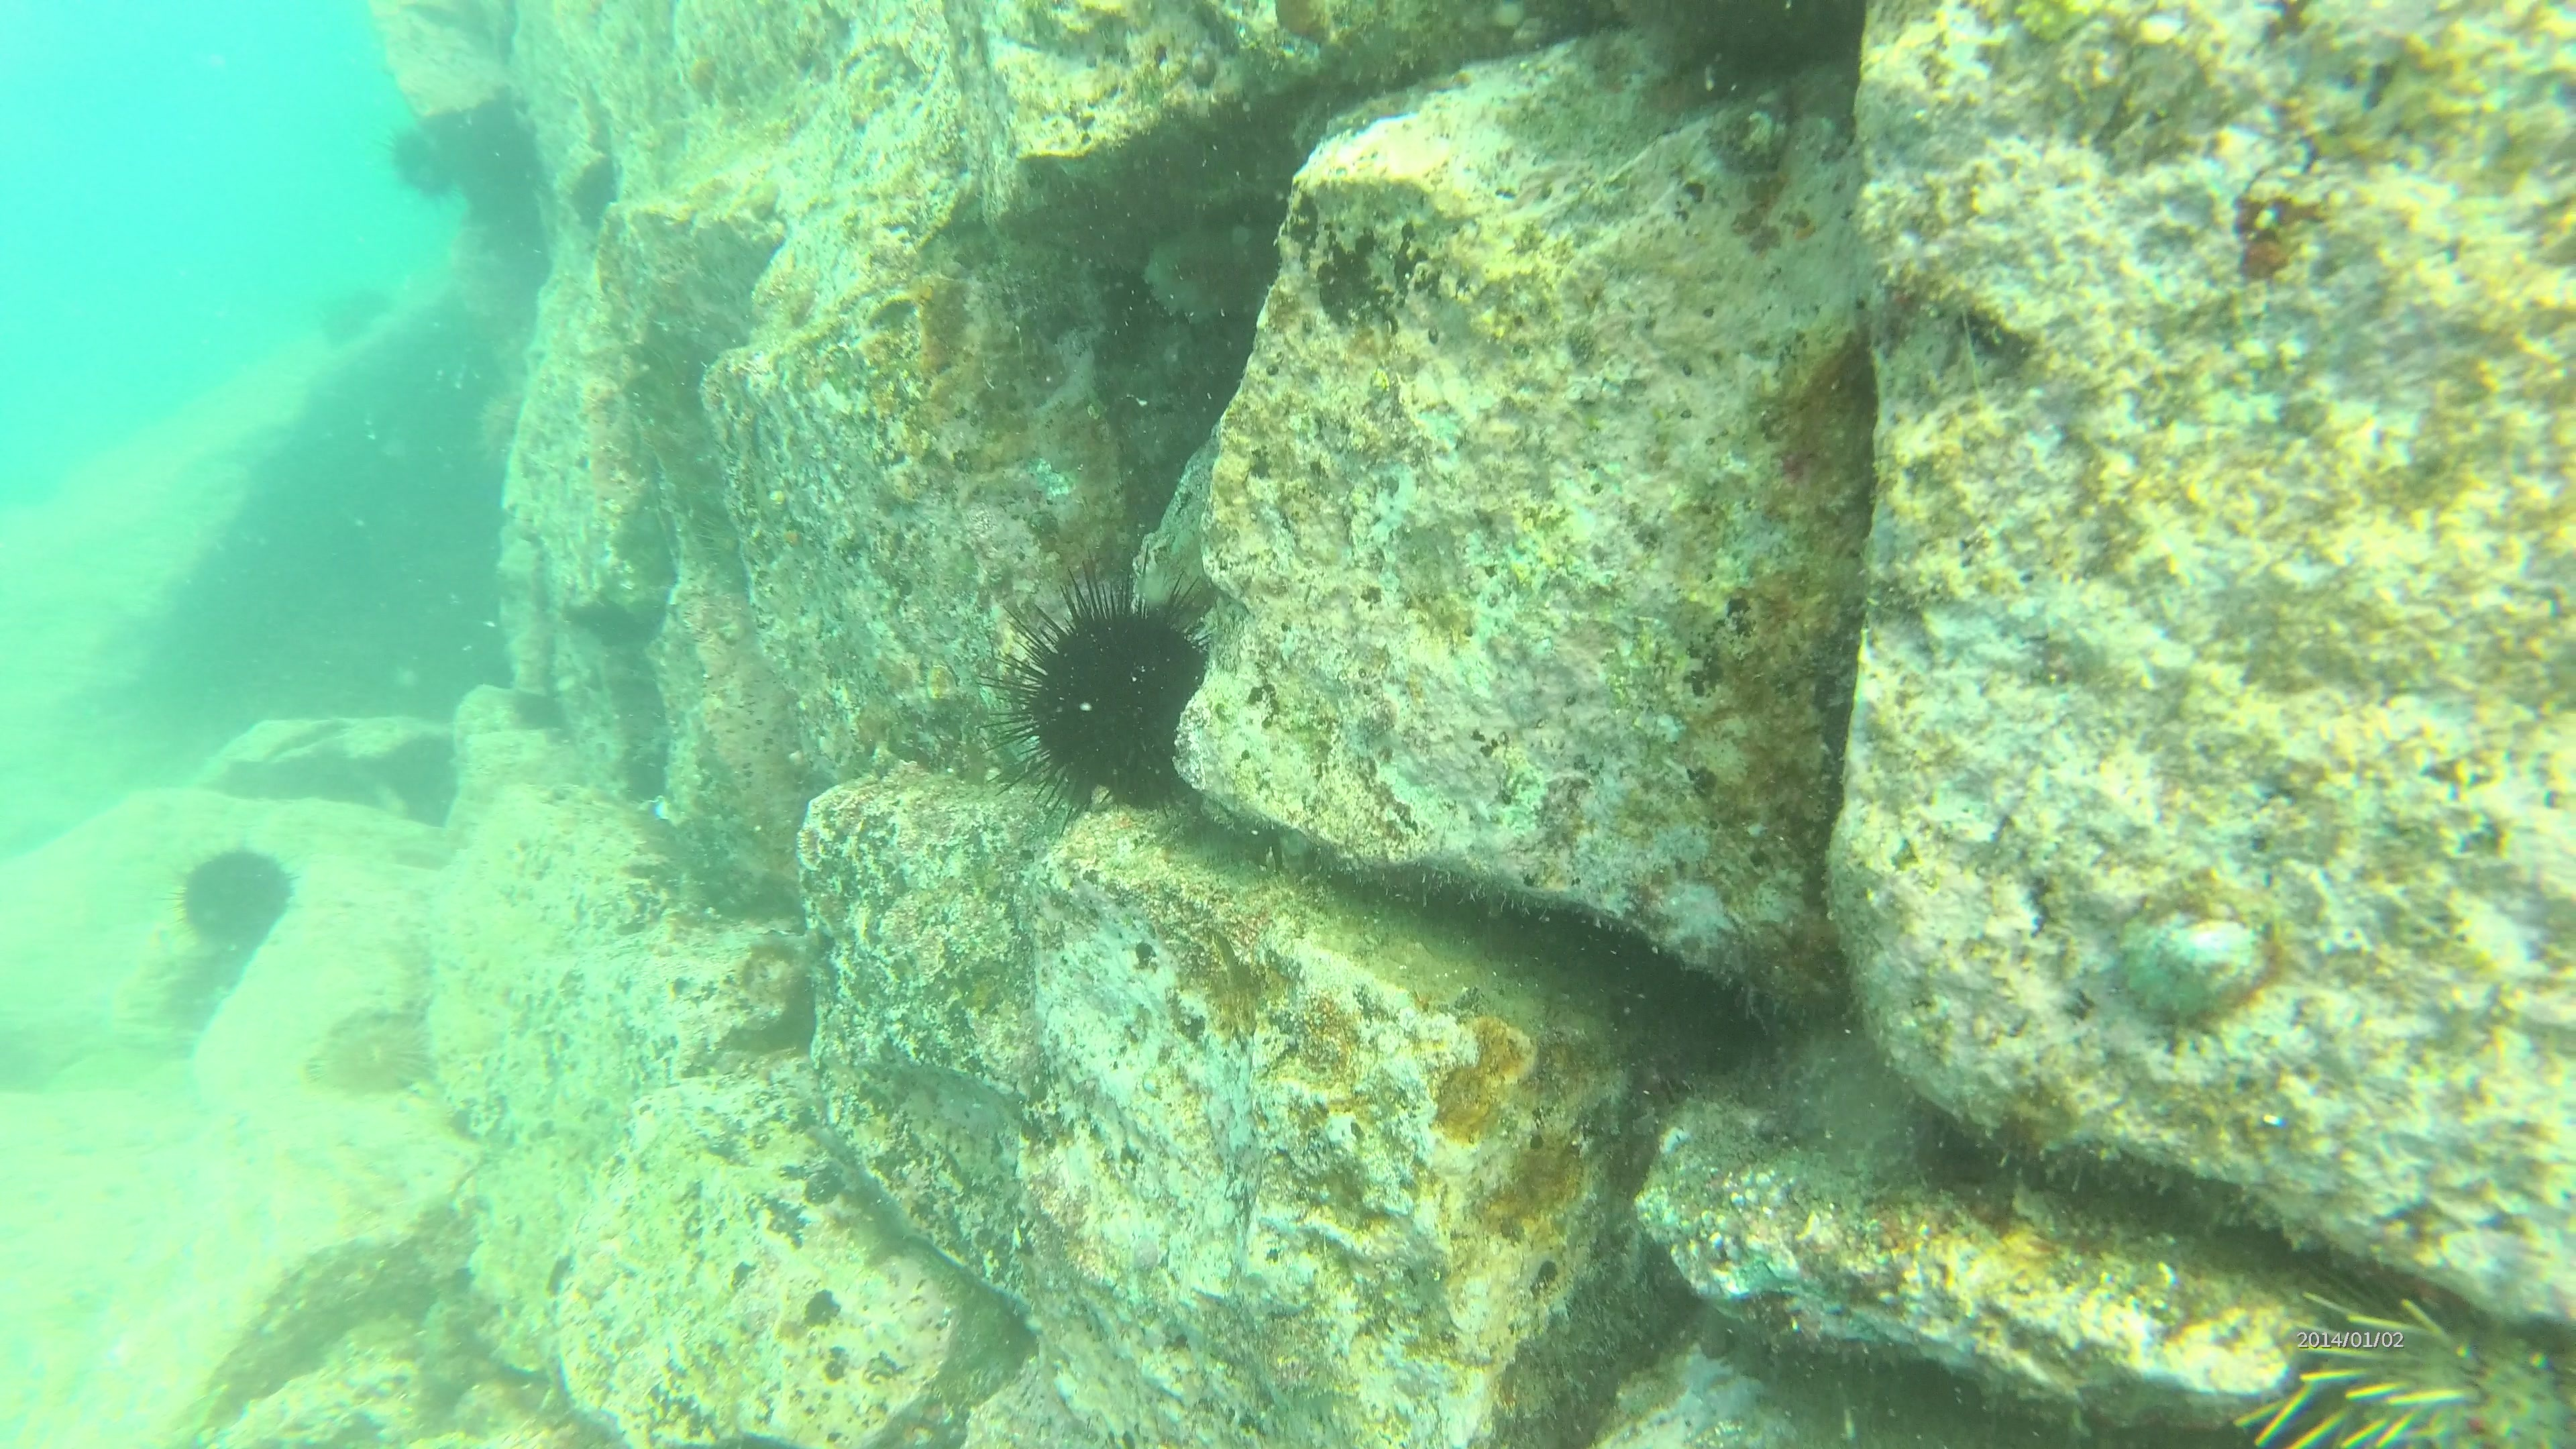echinus: (2245, 1260, 2576, 1449), (1014, 586, 1233, 805), (313, 1001, 433, 1104), (179, 842, 297, 945), (389, 117, 462, 209), (317, 288, 386, 347)
